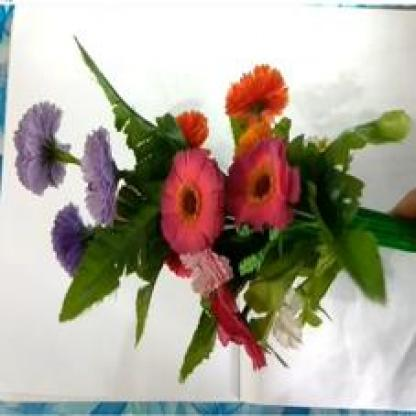flower: (30, 52, 395, 380)
